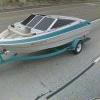Boat: (2, 10, 93, 58)
